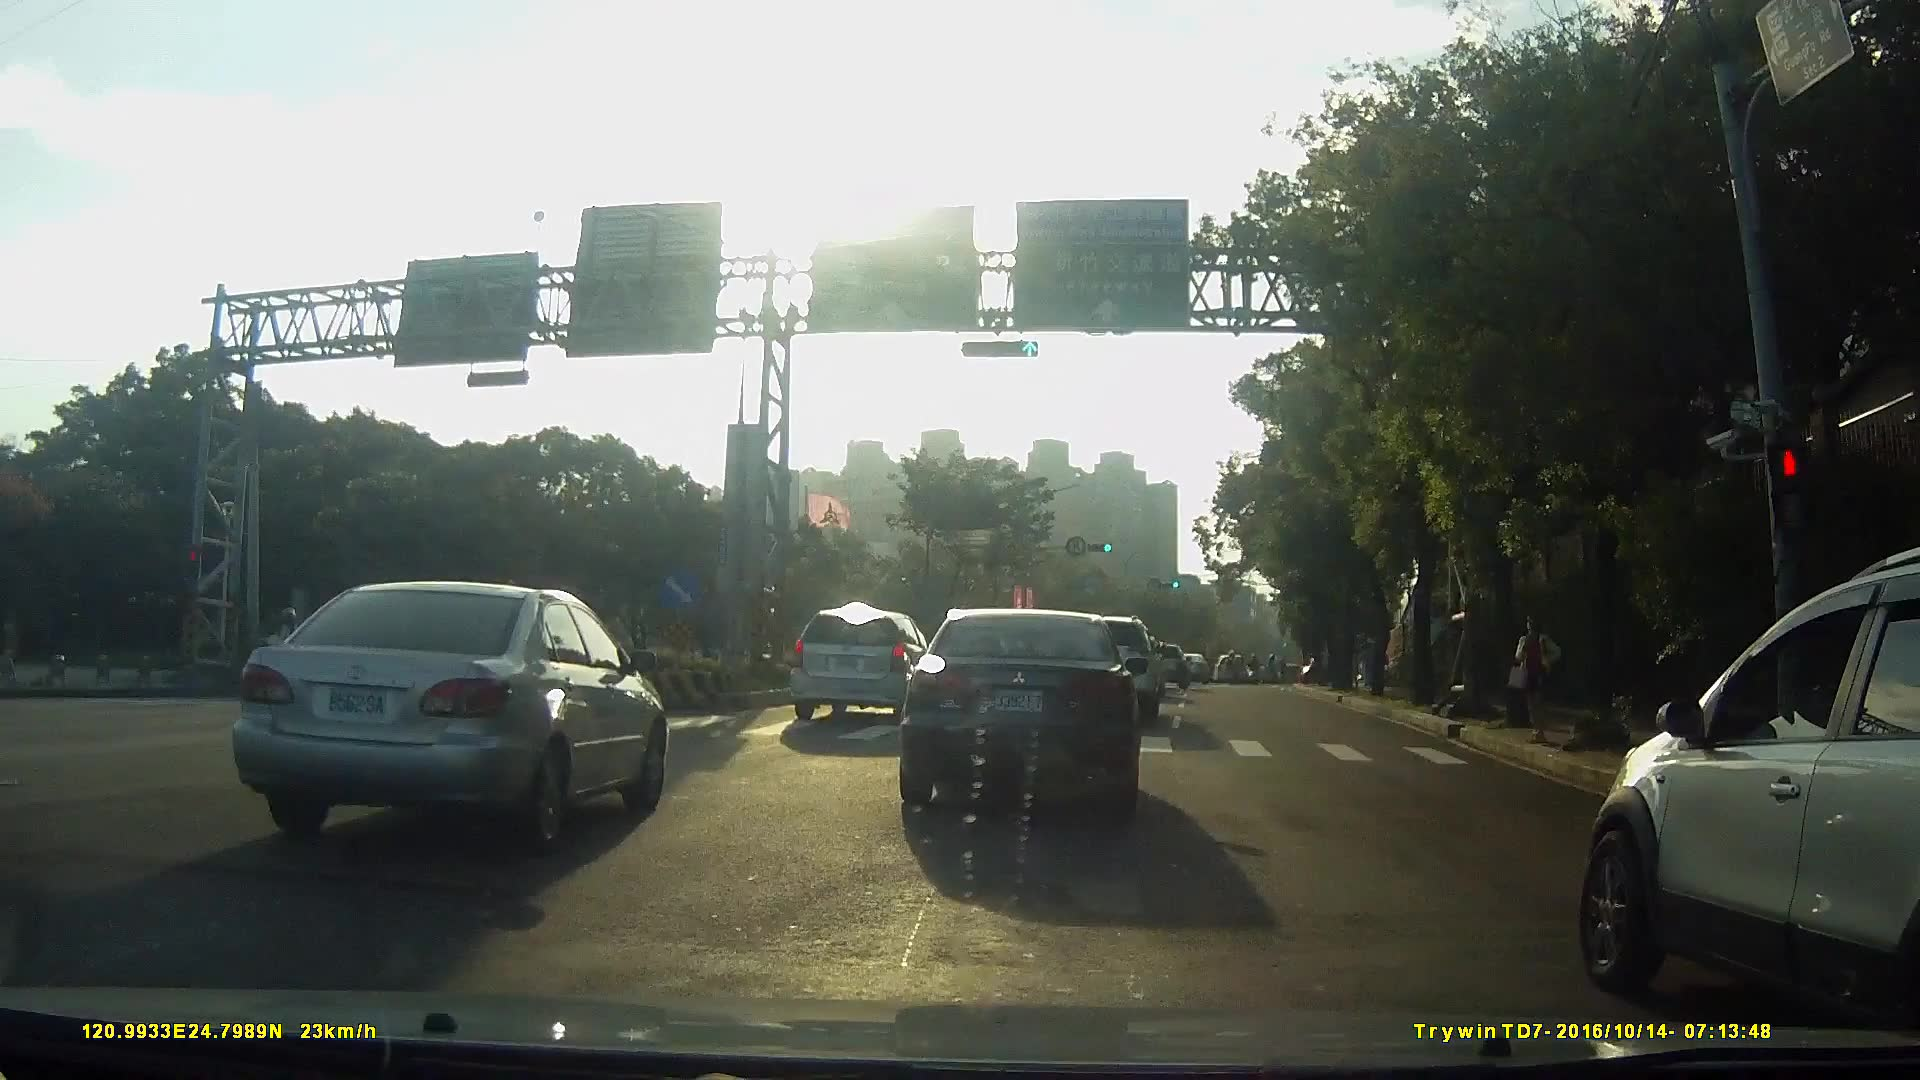pedestrian: (1506, 608, 1565, 743)
vehicle: (1532, 541, 1920, 1061), (211, 573, 681, 850), (880, 602, 1153, 815), (777, 601, 927, 719), (1132, 640, 1181, 688), (1167, 649, 1200, 679)
